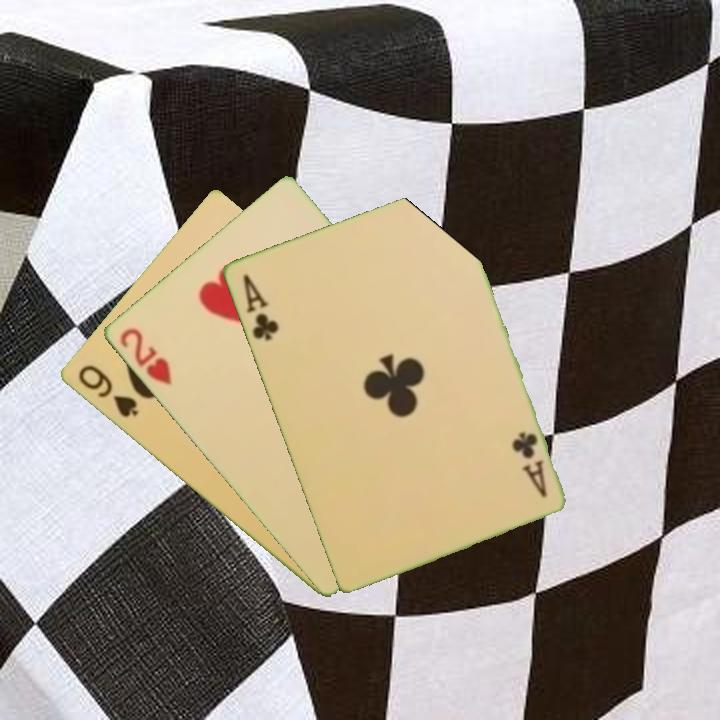2h: (115, 324, 174, 388)
9s: (74, 361, 141, 421)
Ac: (238, 270, 282, 343), (507, 428, 550, 500)
